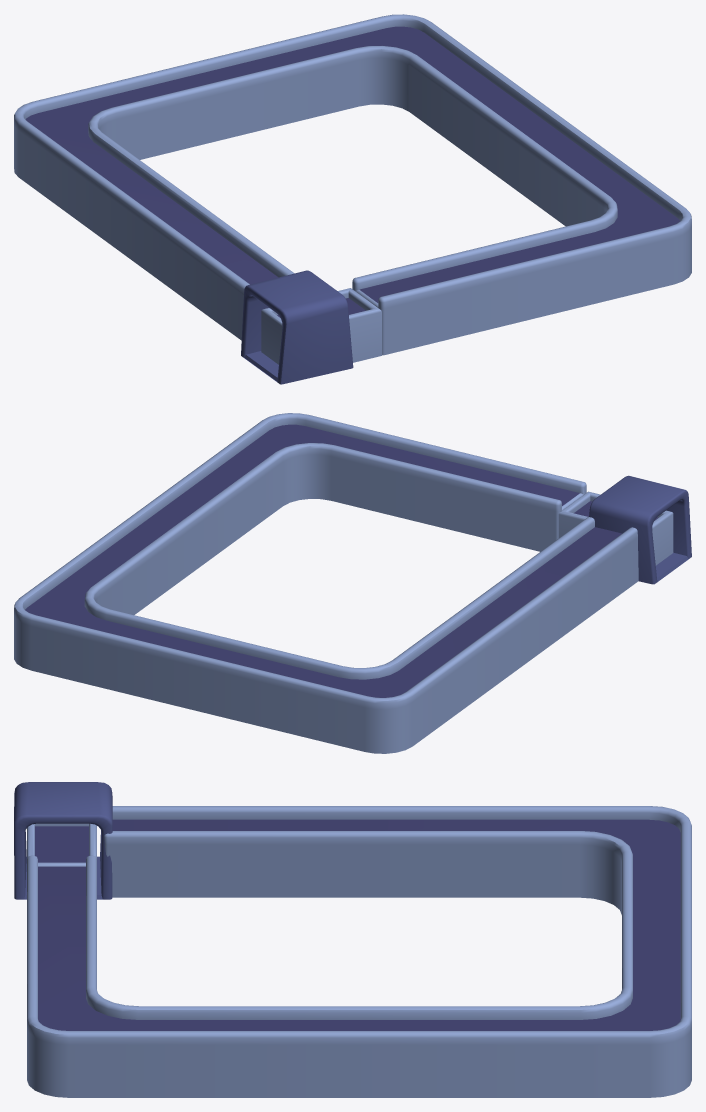
File: road.fbx
The picture shows the model from 3 angles, top to bottom: view 1: azimuth 30°, elevation 25°; view 2: azimuth 150°, elevation 25°; view 3: azimuth 270°, elevation 25°; orthographic projection. The views are drawn at different scales.
Parts seen in each view (by area): view 1: road; view 2: road; view 3: road.
Part boxes in pixels (x1=…): road: x1=14, y1=14, x2=691, y2=384; road: x1=14, y1=413, x2=691, y2=753; road: x1=14, y1=782, x2=691, y2=1097.
Size of the model in its own units: 1260 by 199 by 1513.
